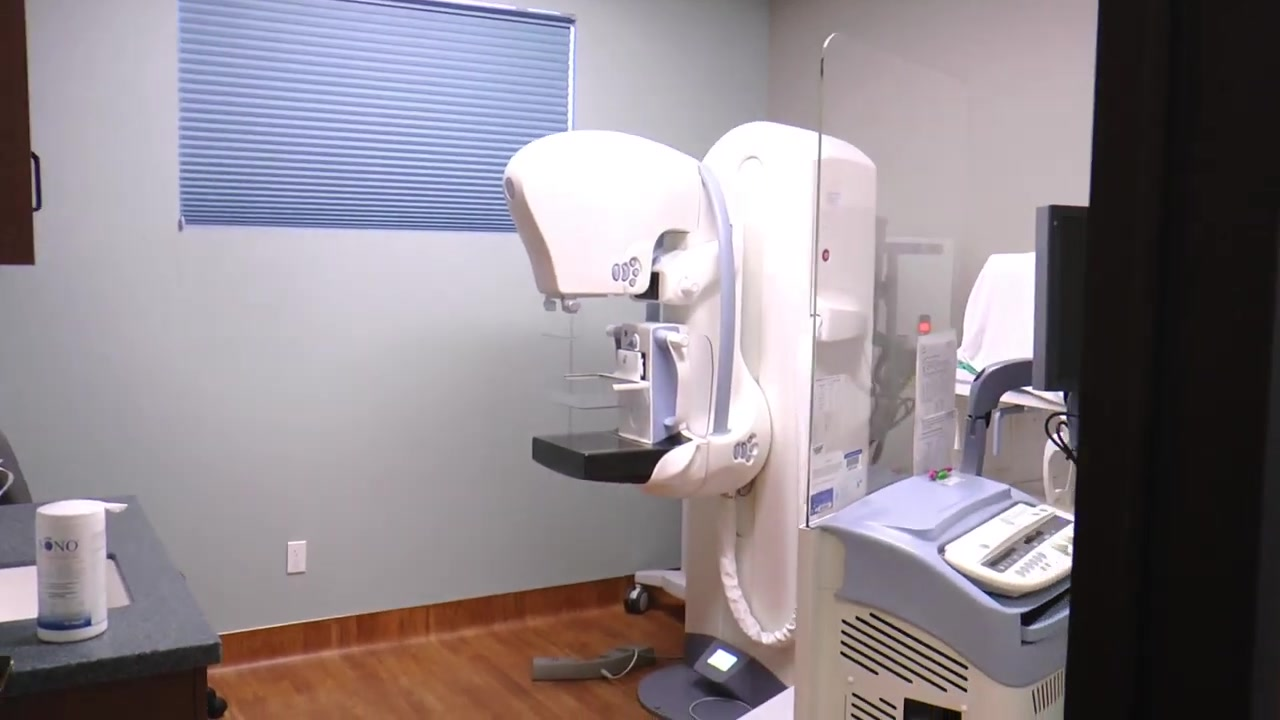bedside_monitor: (1031, 204, 1086, 393)
countertop: (1, 494, 224, 696)
handle: (30, 150, 47, 213)
sink: (1, 550, 136, 628)
